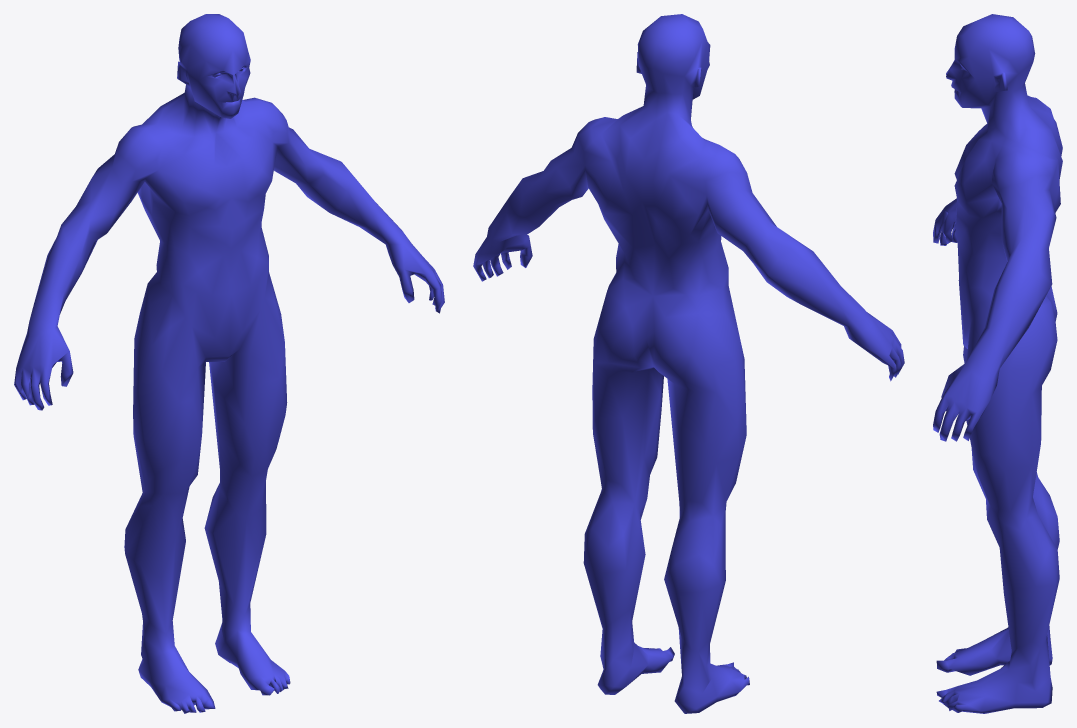
File: avatar_low.fbx
3 views of the same model, side by side, from view 1: azimuth 30°, elevation 25°; view 2: azimuth 150°, elevation 25°; view 3: azimuth 270°, elevation 25° (orthographic).
Visible parts, largest first — view 1: m_avatar_high; view 2: m_avatar_high; view 3: m_avatar_high.
Boxes of the visible parts, x1,y1,x2,y2 form: m_avatar_high: (14,14,444,713); m_avatar_high: (473,14,904,713); m_avatar_high: (933,14,1062,713).
Size of the model in its own units: 108 by 163 by 28.71.
